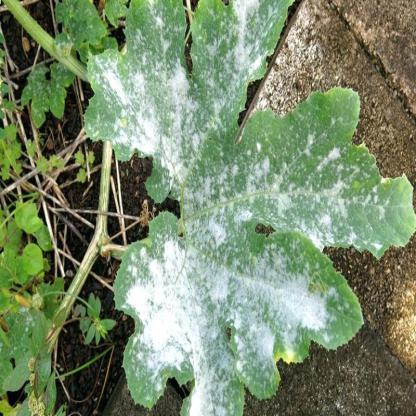squash powdery mildew leaf: (83, 1, 411, 415)
